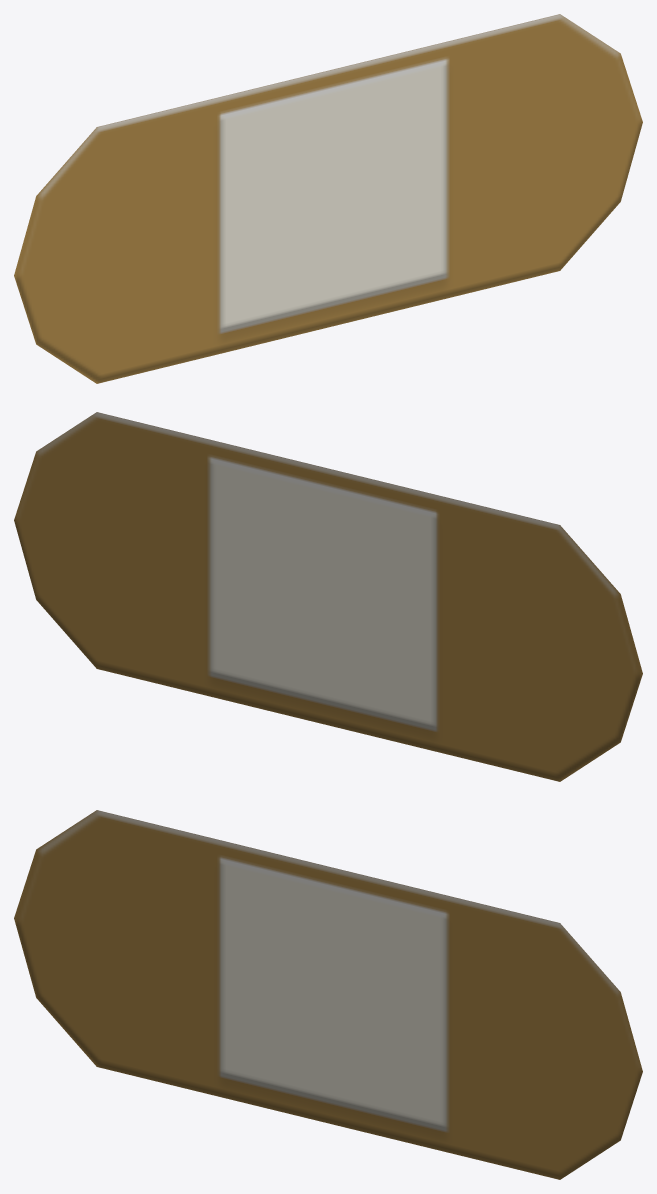
Rendered from eff_bandoe-do01.fbx.
3 views of the same model, one above another, from view 1: azimuth 30°, elevation 25°; view 2: azimuth 150°, elevation 25°; view 3: azimuth 330°, elevation 25° (orthographic).
Parts seen in each view (by area): view 1: bandoe_do; view 2: bandoe_do; view 3: bandoe_do.
Boxes of the visible parts, x1=… form: bandoe_do: x1=14, y1=14, x2=642, y2=383; bandoe_do: x1=14, y1=412, x2=642, y2=781; bandoe_do: x1=14, y1=810, x2=642, y2=1179.
Size of the model in its own units: 186 by 72.45 by 0.
